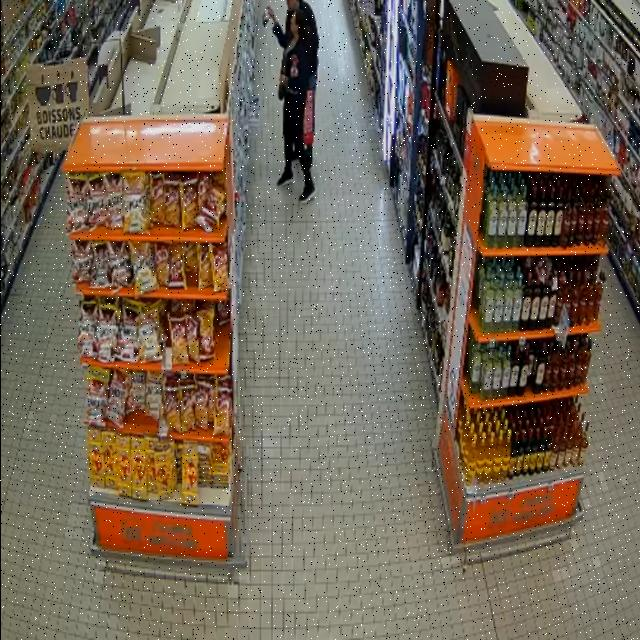article: (289, 55, 299, 78), (262, 6, 270, 27)
bags: (304, 90, 315, 146), (281, 50, 286, 76)
hands: (267, 6, 277, 23), (280, 75, 288, 87)
person: (278, 9, 315, 203), (267, 0, 319, 98)
